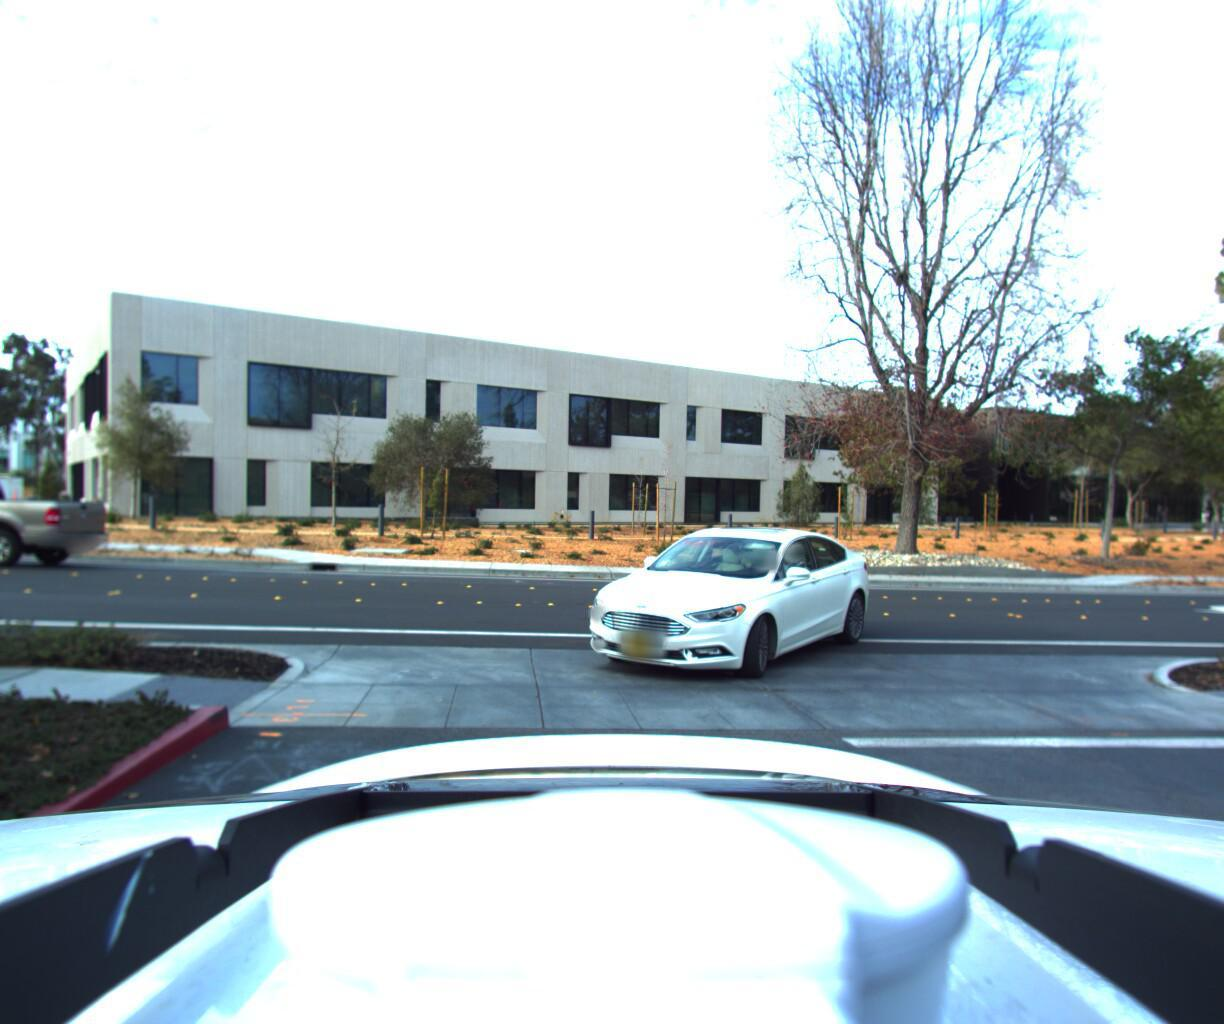car: (542, 508, 889, 699), (0, 461, 109, 573)
